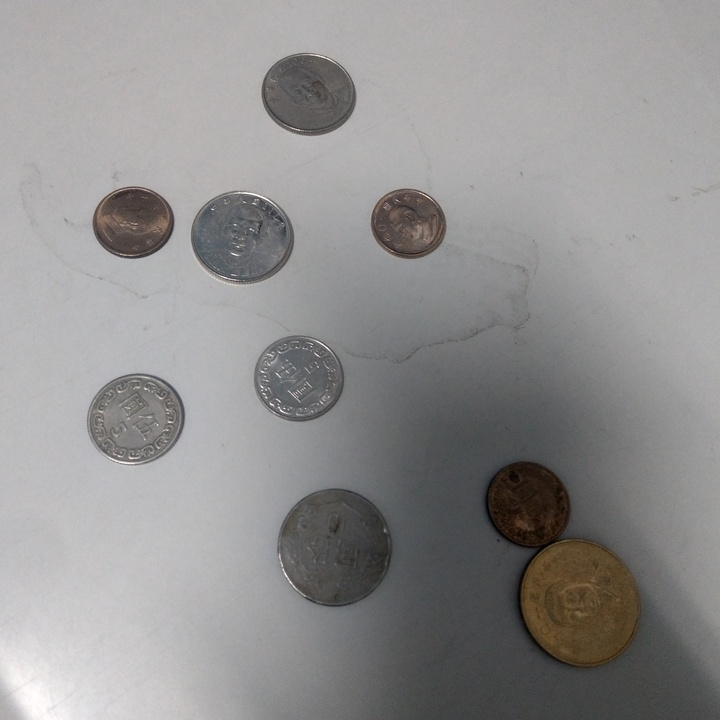1 dollar: (485, 461, 573, 549), (93, 185, 175, 265), (367, 187, 452, 260)
10 dollar: (274, 491, 395, 611), (191, 193, 295, 284), (259, 54, 360, 137)
5 dollar: (85, 375, 186, 467), (252, 333, 350, 425)
50 dollar: (518, 538, 640, 671)
